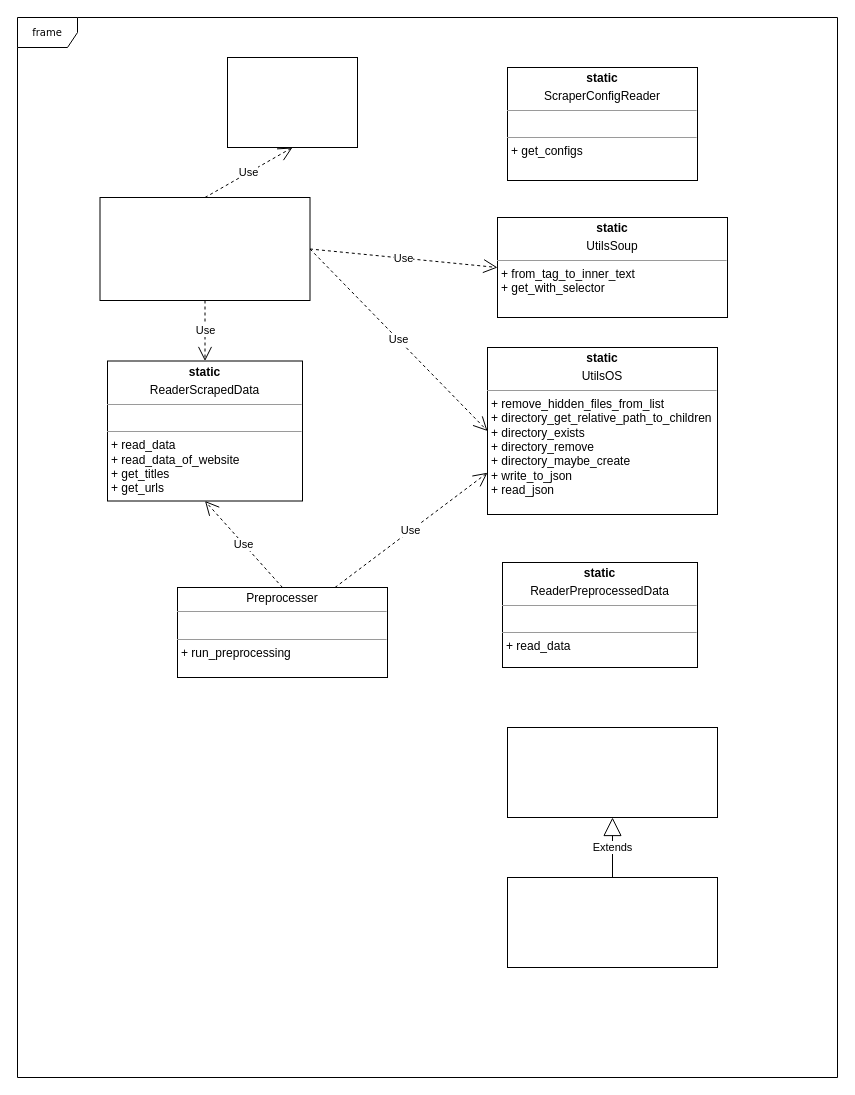
This 855x1095 diagram has some shape labels left out. Here are the shapes that lost their labels. From the top down, the centre of each, then its label:
pixel 292 102: ScraperRequests + make_get
pixel 204 248: Scraper + scrape_website_incremental + incremental_scraping_from_configs
pixel 612 772: Recommender + recommend_articles
pixel 612 922: RecommenderTFIDF + recommend_articles
